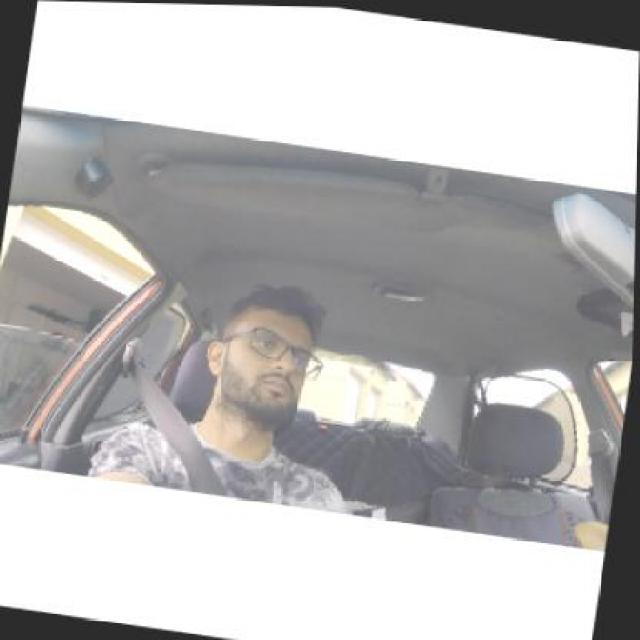LeftRight: (195, 280, 331, 438)
